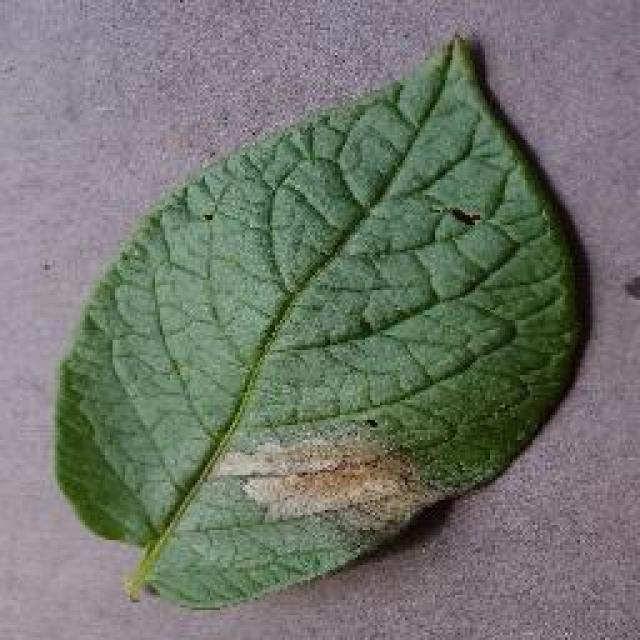late_blight: (47, 30, 595, 612)
